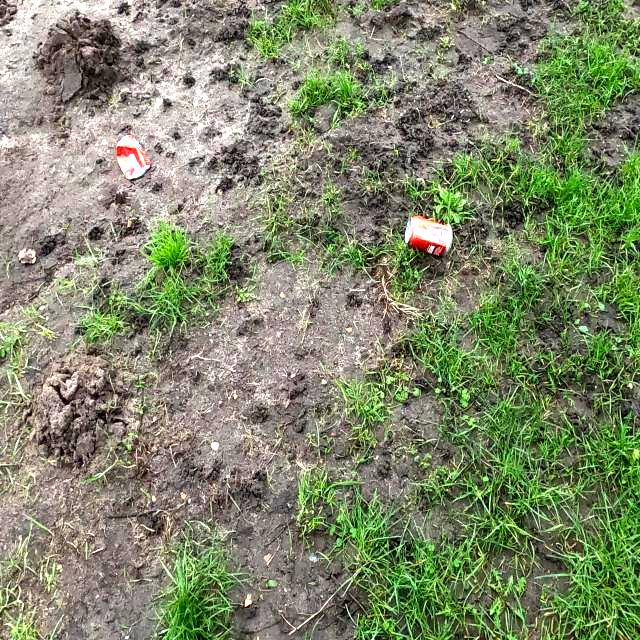Metal: (403, 214, 453, 258), (114, 133, 152, 181)
